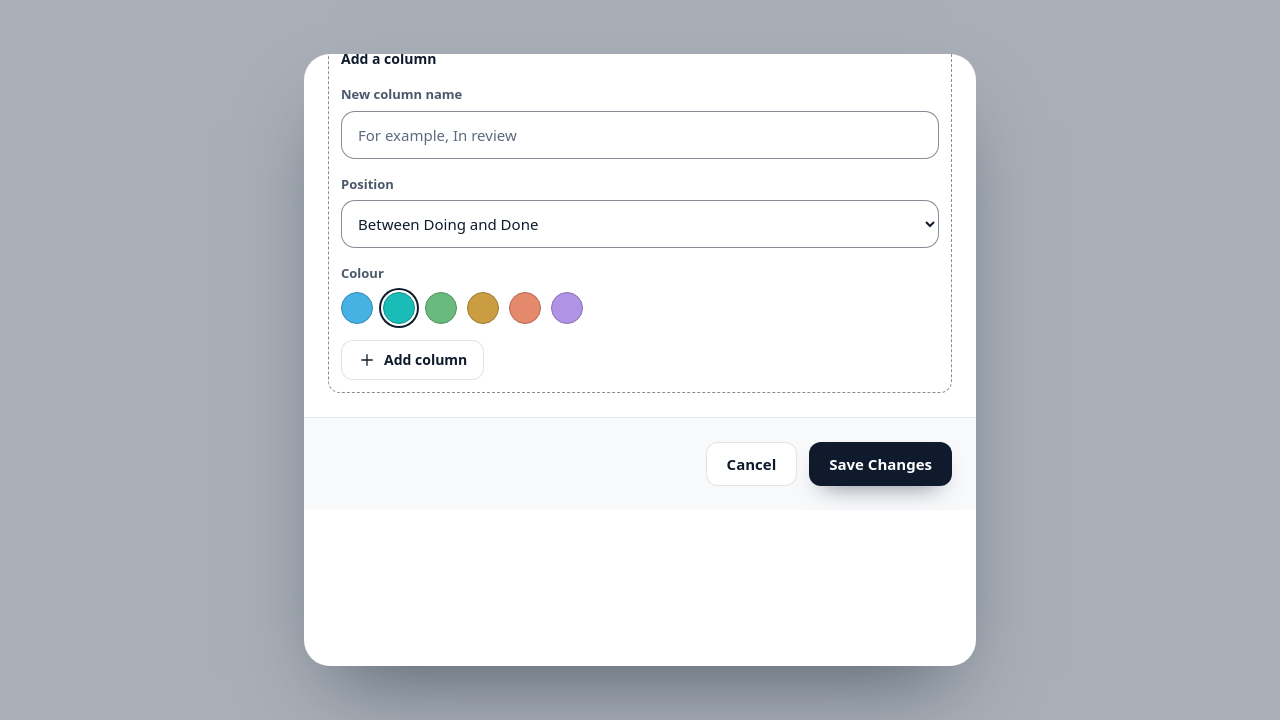
EditBoardModal, columns › adding › refuses an empty name and adds nothing
(page scrolled)
Click the button "Add column".
click(413, 360)  # box [341,340,484,380]
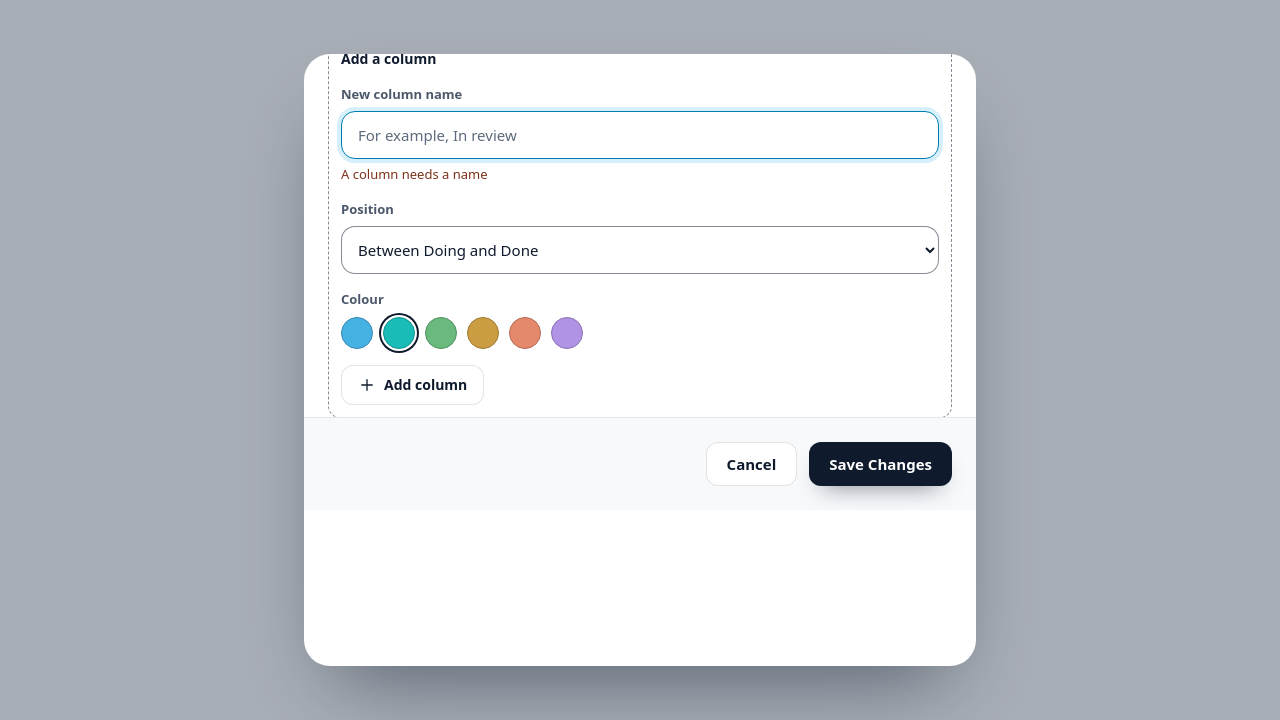
Expected: the message reads "A column needs a name", [341,164,488,182]
